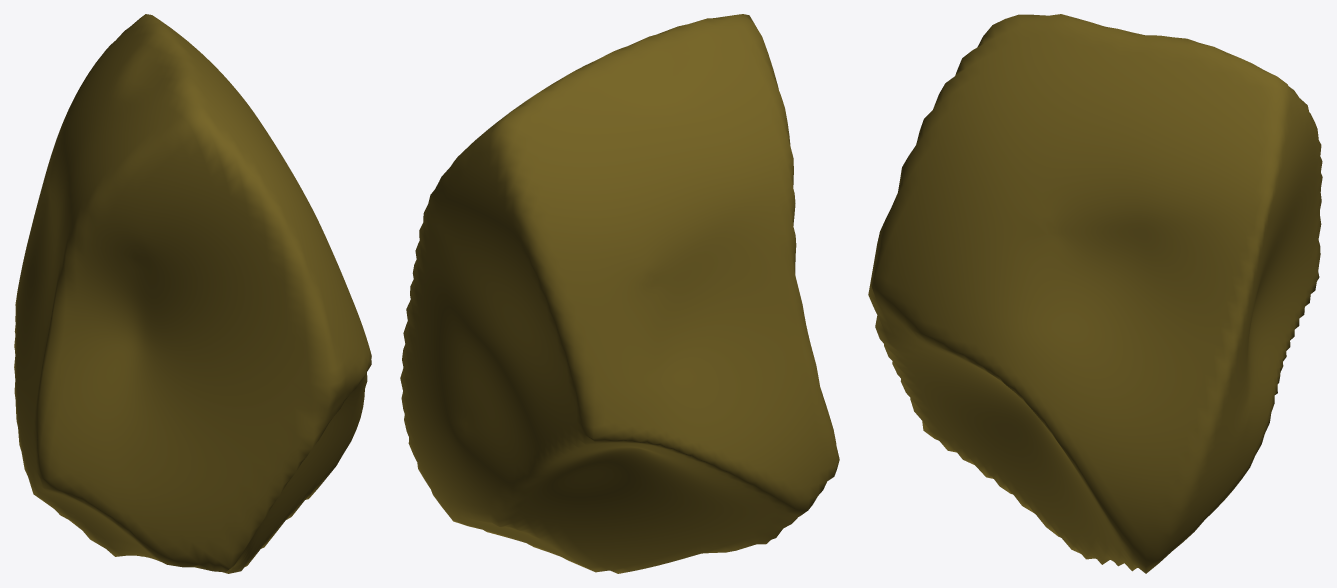
File: low poly rock 1.fbx
The picture shows the model from 3 angles, left to right: view 1: azimuth 30°, elevation 25°; view 2: azimuth 150°, elevation 25°; view 3: azimuth 270°, elevation 25°; orthographic projection. The views are drawn at different scales.
Parts seen in each view (by area): view 1: Cube; view 2: Cube; view 3: Cube.
Part boxes in pixels (<box>): Cube: <box>14,14,371,573</box>; Cube: <box>400,14,839,573</box>; Cube: <box>868,14,1322,573</box>.
Bounding box in the file's own units: 113 × 163 × 131.
